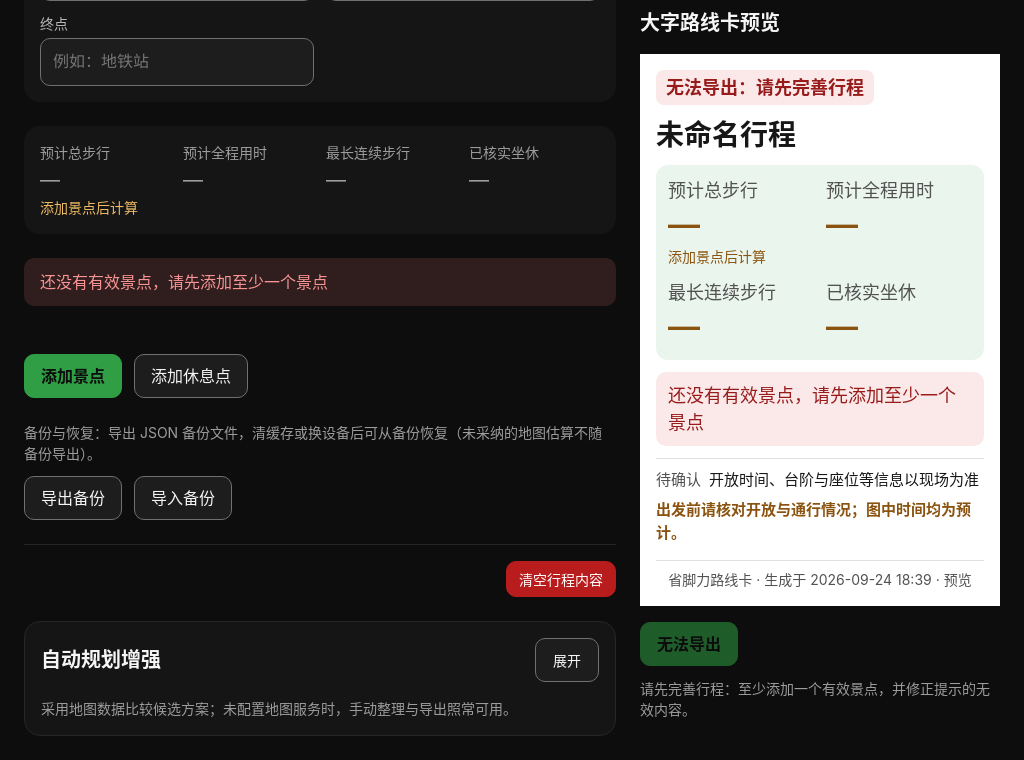
Test case: 附近设施候选流程 › 无坐标的站点：提示先确认地图位置，不发起附近检索，手动录入不受影响
(page scrolled)
Step 1. Click the button "添加景点" → (73, 376), box [24,354,122,398]
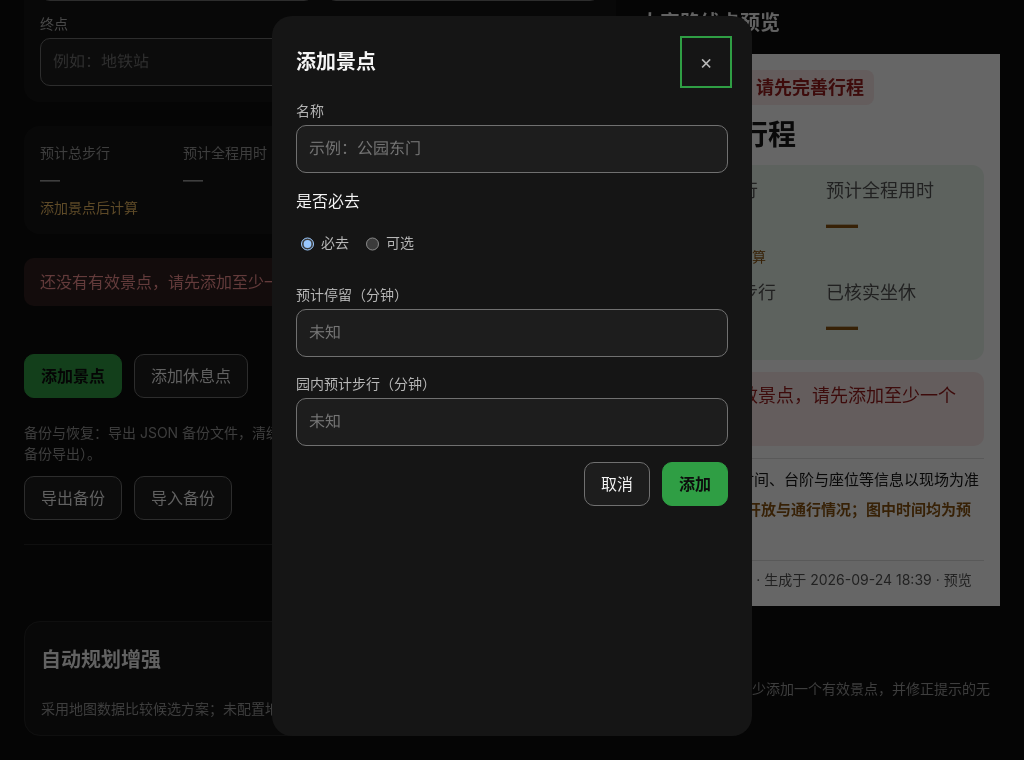
Step 2. Type "无坐标景点" into the field labelled "名称" → (512, 149), box [296,125,728,173]
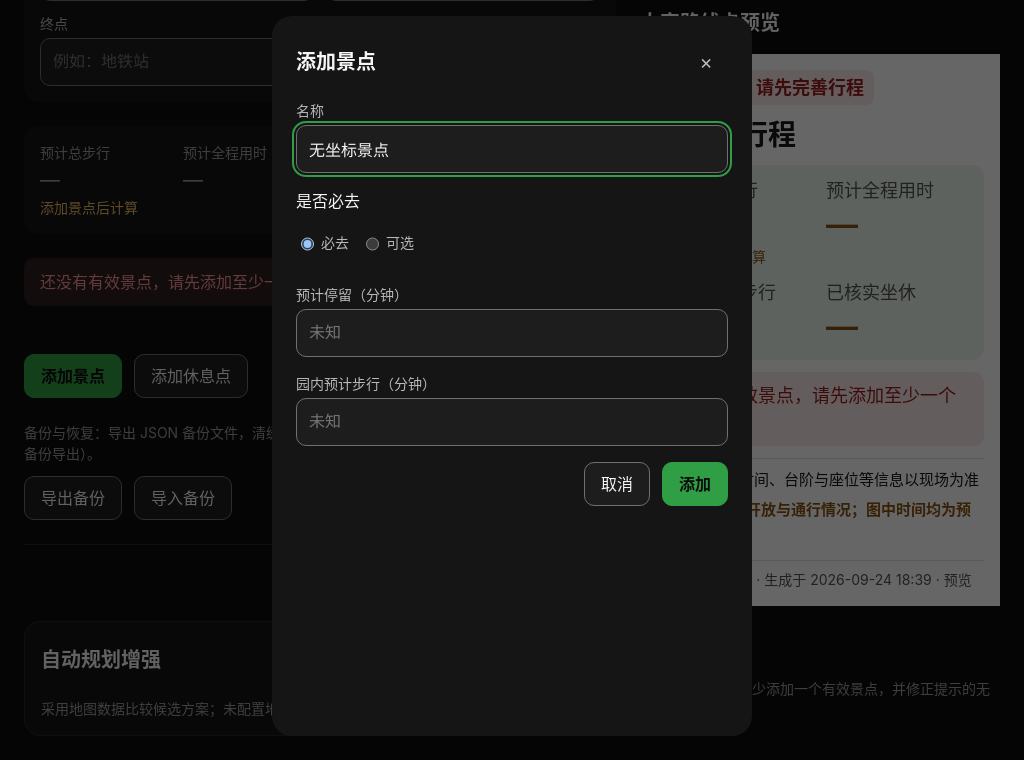
Step 3. Click the button "添加" → (695, 484), box [662,462,728,506]
(page scrolled)
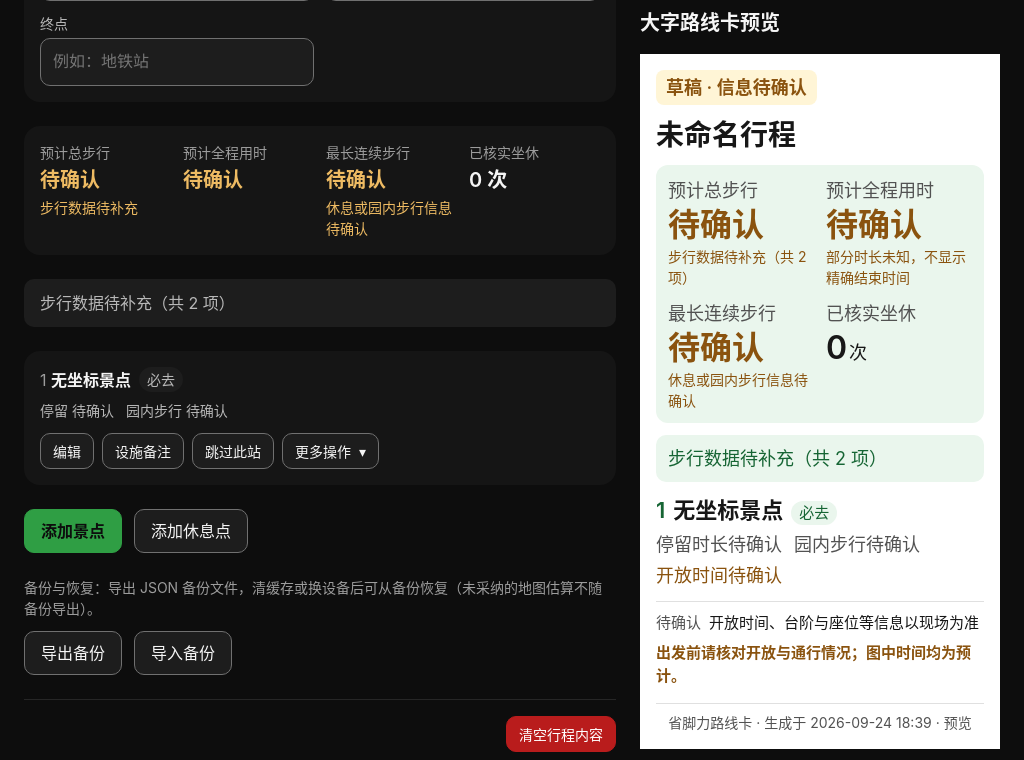
Step 4. Click the button "设施备注" → (143, 451), box [102,433,184,469]
(page scrolled)
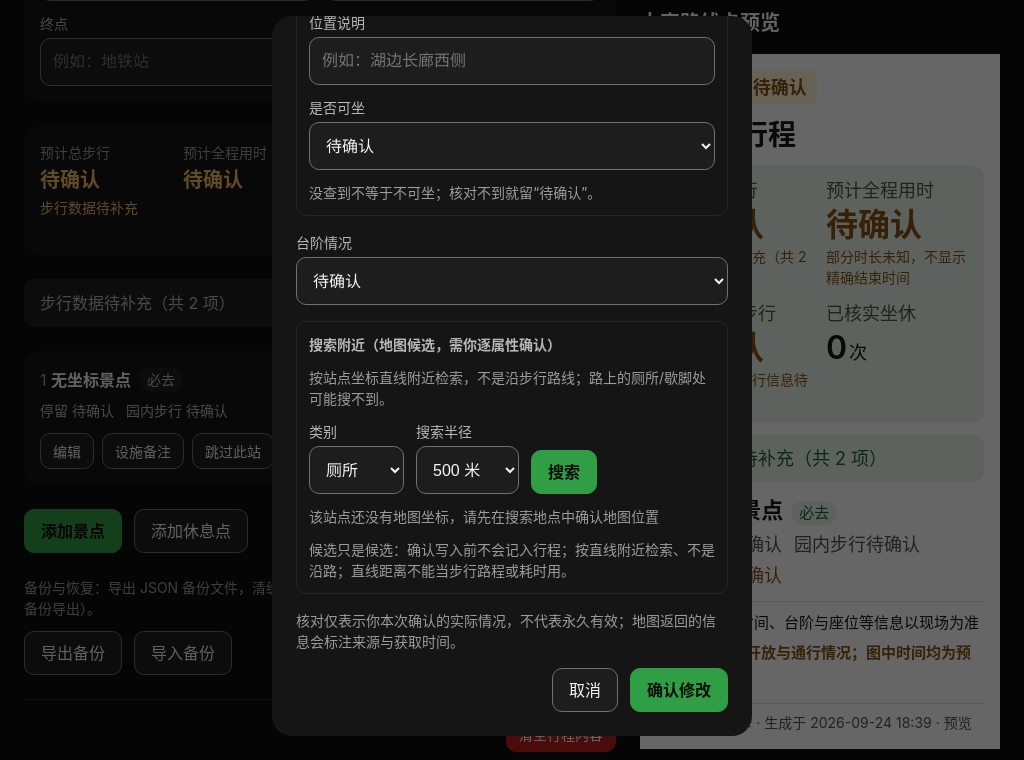
Expected: the text "该站点还没有地图坐标，请先在搜索地点中确认地图位置" is shown, [309,506,715,527]
Step 5. Click the button "搜索" → (564, 472), box [531,450,597,494]
(page scrolled)
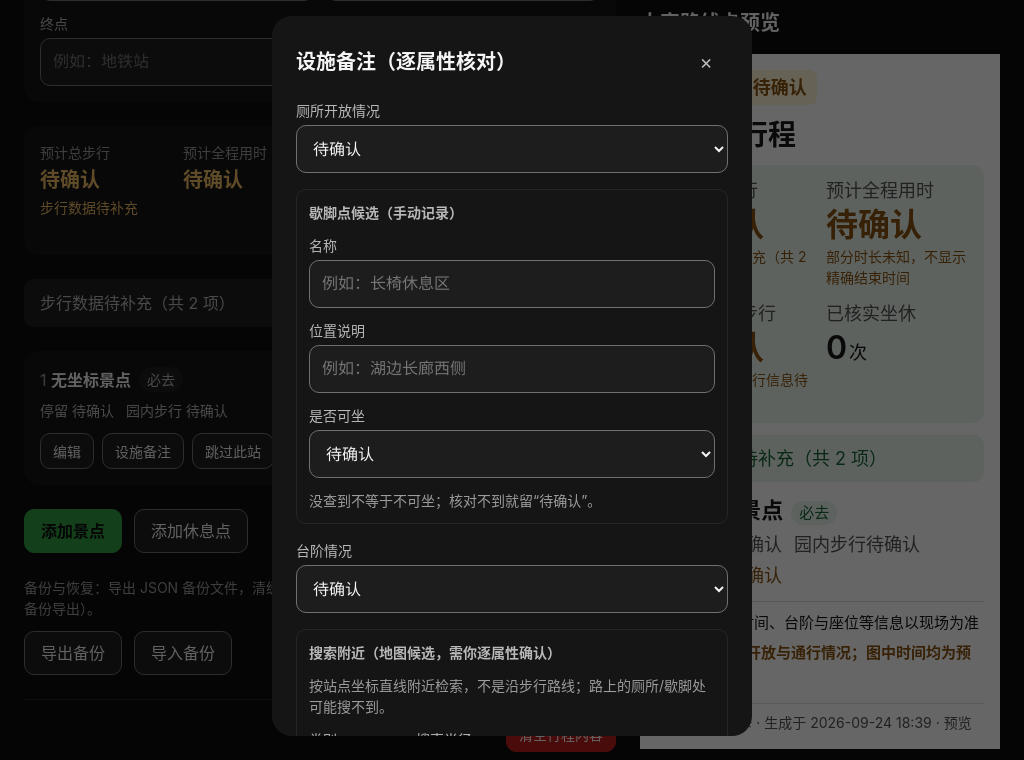
Expected: the dropdown labelled "厕所开放情况" is shown, [296,125,728,173]
